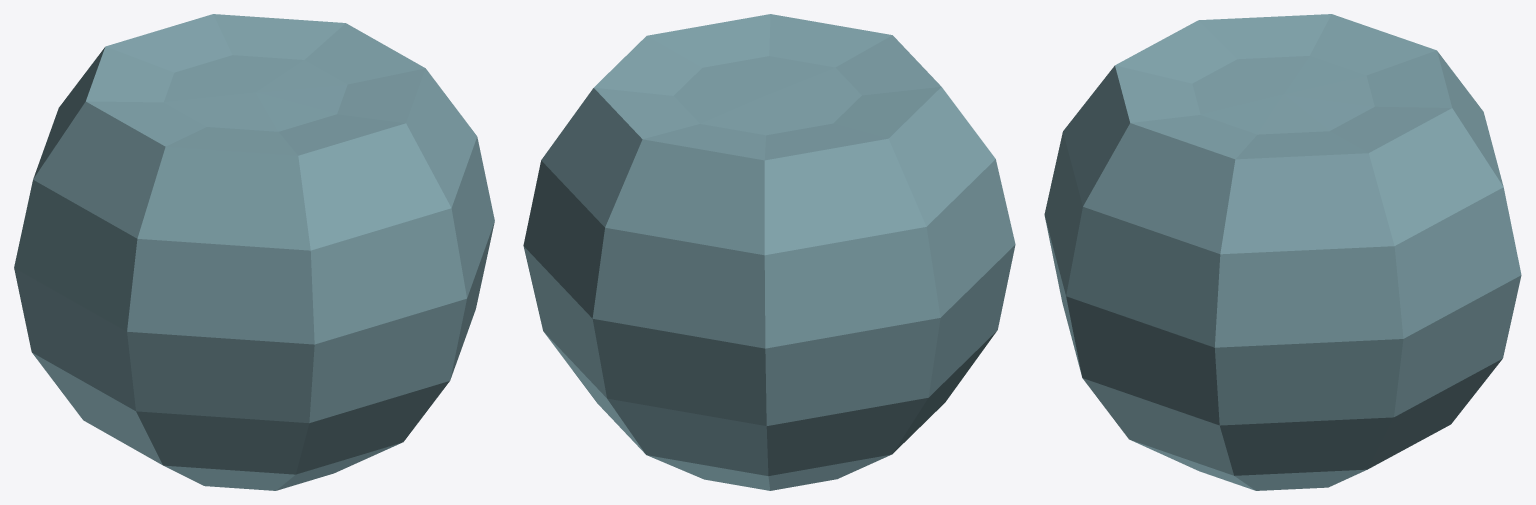
The model's file is teapot.fbx.
3 views of the same model, side by side, from view 1: azimuth 30°, elevation 25°; view 2: azimuth 150°, elevation 25°; view 3: azimuth 270°, elevation 25° (orthographic).
Visible parts, largest first — view 1: pSphere6; view 2: pSphere6; view 3: pSphere6.
Part boxes in pixels (box(x1,y1,x2,y2)): pSphere6: box(14, 14, 494, 490); pSphere6: box(523, 14, 1015, 490); pSphere6: box(1044, 14, 1521, 490).
Bounding box in the file's own units: 0.93 × 0.8292 × 0.9301.
